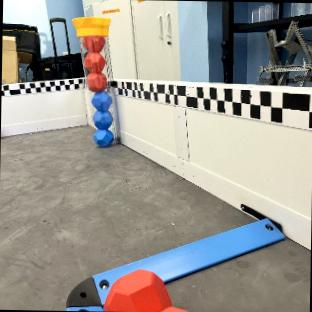V5_BLUE: (92, 92, 113, 145)
V5_RED: (105, 269, 180, 312), (82, 34, 107, 92)
